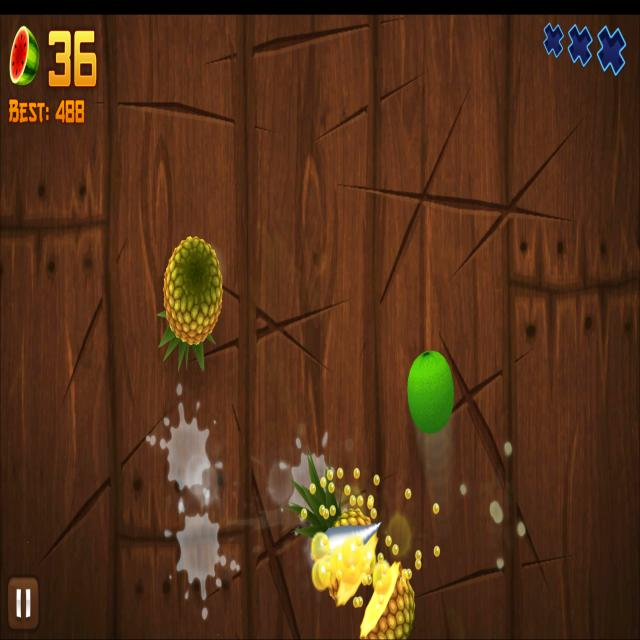fruit: (162, 234, 224, 346), (407, 348, 455, 436)
